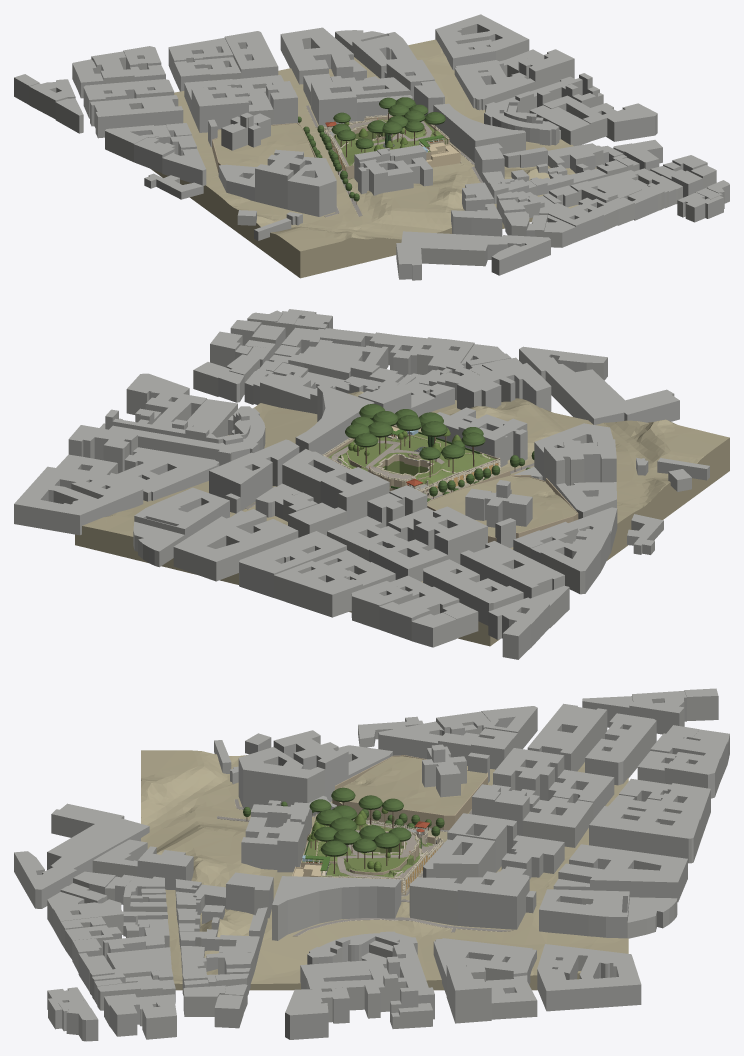
3 renders of one model, top to bottom at view 1: azimuth 30°, elevation 25°; view 2: azimuth 150°, elevation 25°; view 3: azimuth 270°, elevation 25°, orthographic. The views are drawn at different scales.
Parts seen in each view (by area): view 1: vm-r3600581-c0, vm-r2822244-c0, vm-r2701426-c0, vm-r2822249-c0, vm-r2822258-c0, vm-r2822245-c0, vm-r2822248-c0, vm-r2822250-c0, vm-r2760843-c0, vm-r2822259-c0, vm-r2822265-c0, vm-r2760867-c0 (+54 smaller); view 2: vm-r3600581-c0, vm-r2822244-c0, vm-r2822249-c0, vm-r2701426-c0, vm-r2822258-c0, vm-r2822250-c0, vm-r2822268-c0, vm-r2822245-c0, vm-r2822267-c0, vm-r3600511-c0, vm-r2822262-c0, vm-r2760867-c0 (+54 smaller); view 3: vm-r3600581-c0, vm-r2701426-c0, vm-r2822244-c0, vm-r2760843-c0, vm-r2822249-c0, vm-r2822258-c0, vm-r2822267-c0, vm-r2822255-c0, vm-r2822259-c0, vm-r2822254-c0, vm-r2822262-c0, vm-r2822245-c0 (+59 smaller).
Part boxes in pixels (x1,y1,x2,y2): vm-r3600581-c0: [151, 39, 596, 278]; vm-r2822244-c0: [396, 231, 550, 280]; vm-r2701426-c0: [484, 73, 603, 145]; vm-r2822249-c0: [435, 14, 529, 70]; vm-r2822258-c0: [280, 27, 353, 84]; vm-r2822245-c0: [90, 95, 183, 138]; vm-r2822248-c0: [354, 148, 432, 195]; vm-r2822250-c0: [454, 60, 535, 110]; vm-r2760843-c0: [433, 103, 525, 162]; vm-r2822259-c0: [287, 156, 336, 216]; vm-r2822265-c0: [191, 85, 248, 132]; vm-r2760867-c0: [255, 149, 305, 209]; vm-r3600581-c0: [75, 391, 729, 646]; vm-r2822244-c0: [519, 346, 679, 424]; vm-r2822249-c0: [14, 466, 143, 535]; vm-r2701426-c0: [100, 406, 265, 465]; vm-r2822258-c0: [173, 509, 298, 581]; vm-r2822250-c0: [108, 447, 219, 501]; vm-r2822268-c0: [274, 561, 362, 617]; vm-r2822245-c0: [460, 541, 564, 598]; vm-r2822267-c0: [239, 531, 346, 597]; vm-r3600511-c0: [328, 433, 495, 487]; vm-r2822262-c0: [423, 559, 523, 625]; vm-r2760867-c0: [544, 439, 616, 488]; vm-r3600581-c0: [141, 750, 628, 990]; vm-r2701426-c0: [307, 931, 434, 1028]; vm-r2822244-c0: [14, 803, 149, 908]; vm-r2760843-c0: [272, 876, 401, 940]; vm-r2822249-c0: [537, 944, 641, 1011]; vm-r2822258-c0: [558, 844, 687, 902]; vm-r2822267-c0: [589, 806, 699, 863]; vm-r2822255-c0: [539, 889, 629, 938]; vm-r2822259-c0: [238, 747, 325, 809]; vm-r2822254-c0: [457, 877, 529, 929]; vm-r2822262-c0: [585, 713, 656, 785]; vm-r2822245-c0: [527, 703, 607, 771].
Bounding box in the file's own units: 453 × 60.32 × 470.
